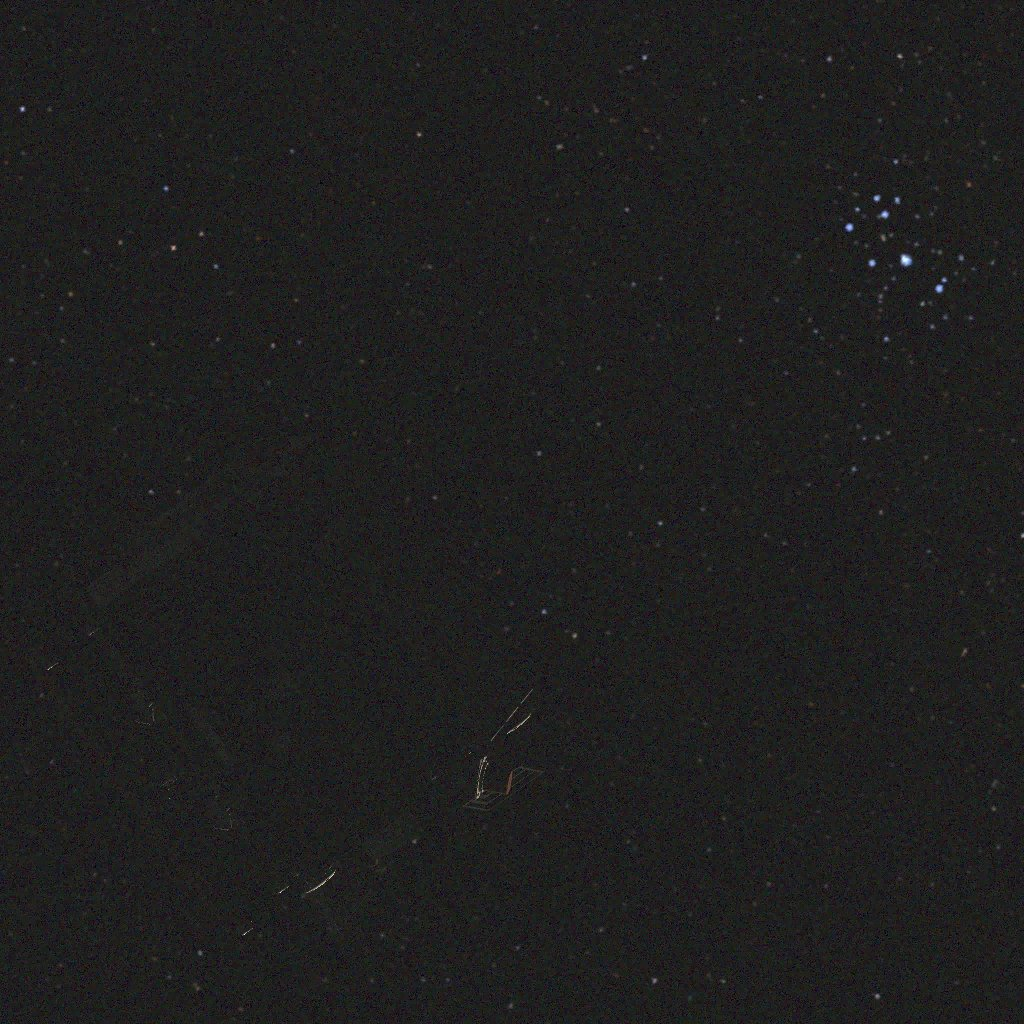proba_2: (26, 419, 544, 951)
